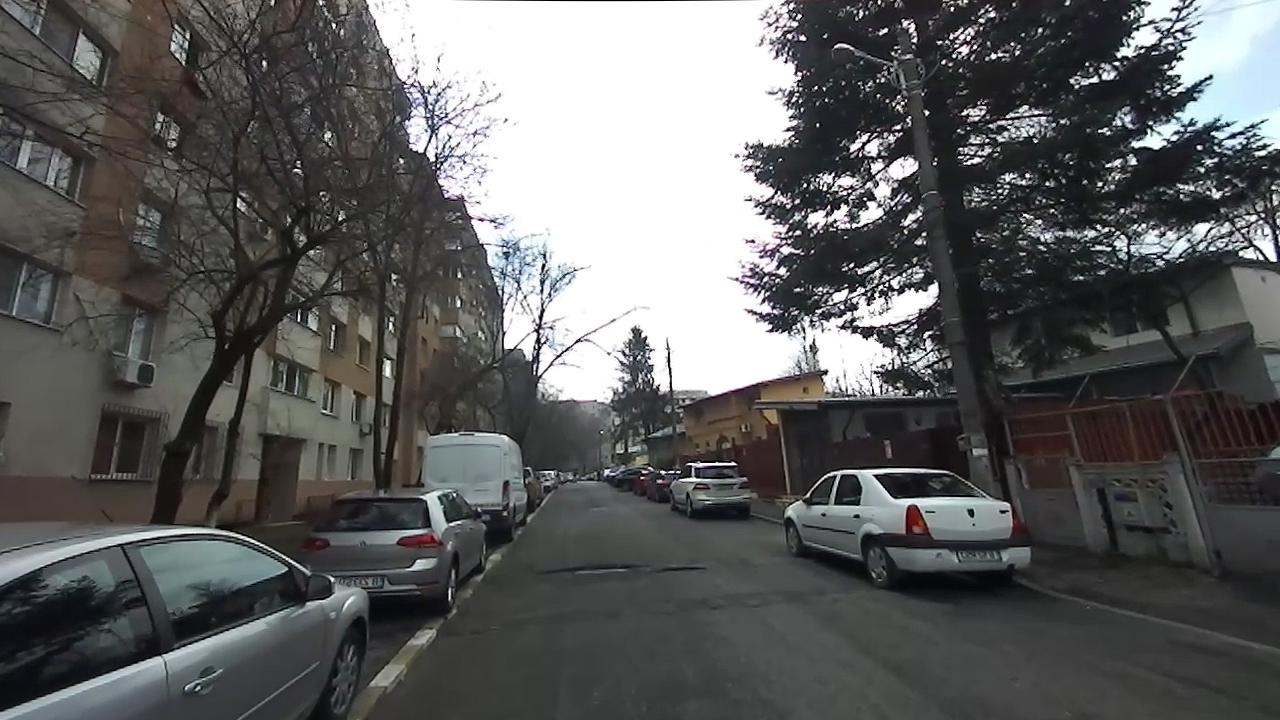pothole: (541, 561, 640, 580), (658, 564, 706, 574)
